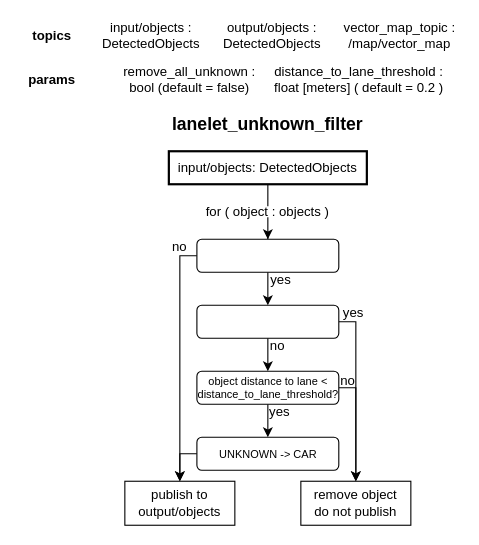
Some shapes in this 479 by 545 pixel diagram are drawn without their labels. The centre of each missing label's shape, as x and y in pixels:
"classification = UNKNOWN ?" goes at [267,255].
"remove_all_unknown?" goes at [267,321].
